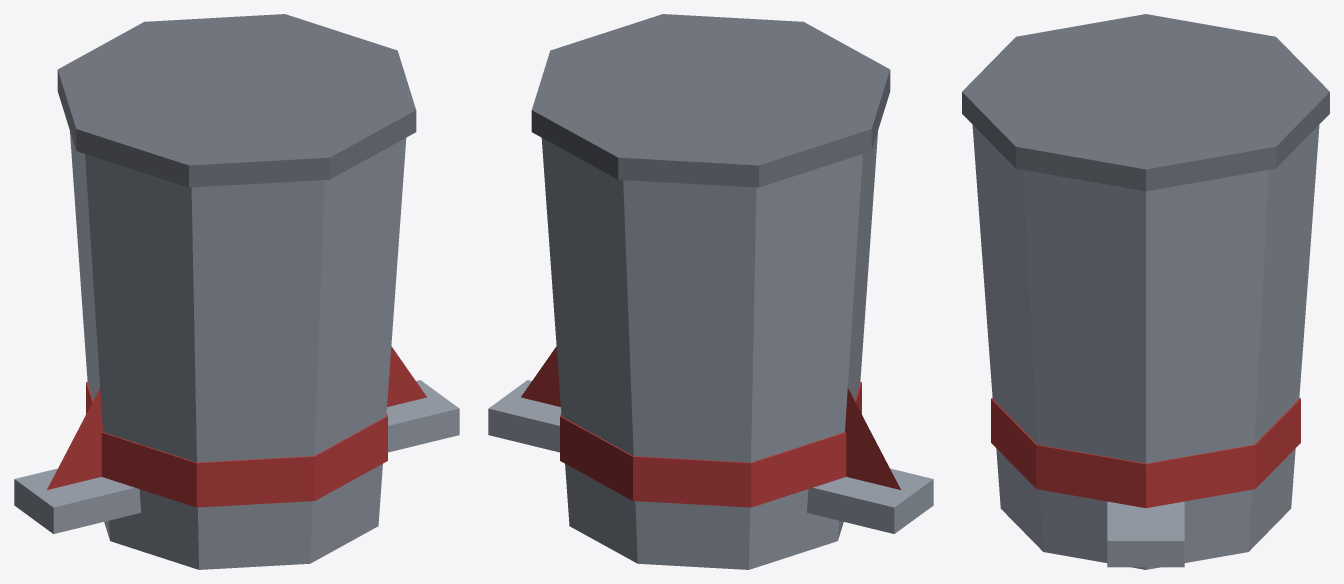
File: scrap.glb
3 renders of one model, left to right at view 1: azimuth 30°, elevation 25°; view 2: azimuth 150°, elevation 25°; view 3: azimuth 270°, elevation 25°, orthographic.
Visible parts, largest first — view 1: DYN_bin, DYN_nose, DYN_fin; view 2: DYN_bin, DYN_nose, DYN_fin; view 3: DYN_bin, DYN_nose, DYN_fin.
Boxes of the visible parts, box(x1,y1,x2,y2) form: DYN_bin: box(57, 14, 416, 569); DYN_nose: box(86, 382, 387, 507); DYN_fin: box(14, 346, 459, 533); DYN_bin: box(531, 14, 890, 569); DYN_nose: box(560, 382, 861, 507); DYN_fin: box(488, 346, 933, 533); DYN_bin: box(962, 14, 1329, 569); DYN_nose: box(991, 397, 1300, 508); DYN_fin: box(1107, 501, 1184, 567).
Size of the model in its own units: 0.96 by 0.95 by 0.76.
